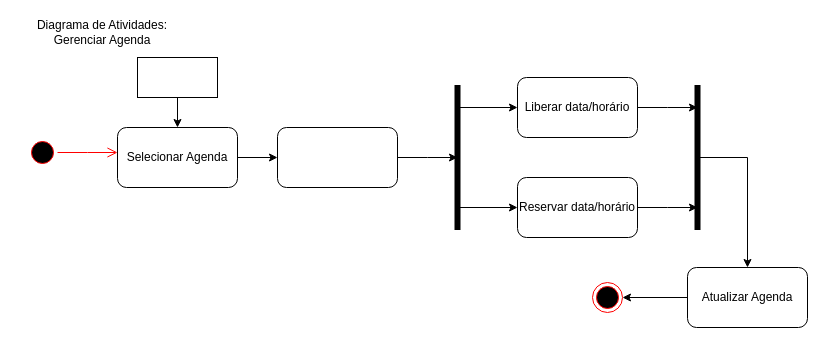
Some shapes in this 825 by 345 pixel diagram are drawn without their labels. The shapes that lost their labels are listed below. From the top down, each one's centre as x and y in pixels, then its label:
At point 177,77: ":Agenda".
At point 337,157: "Mostrar Calendário do Prestador".
